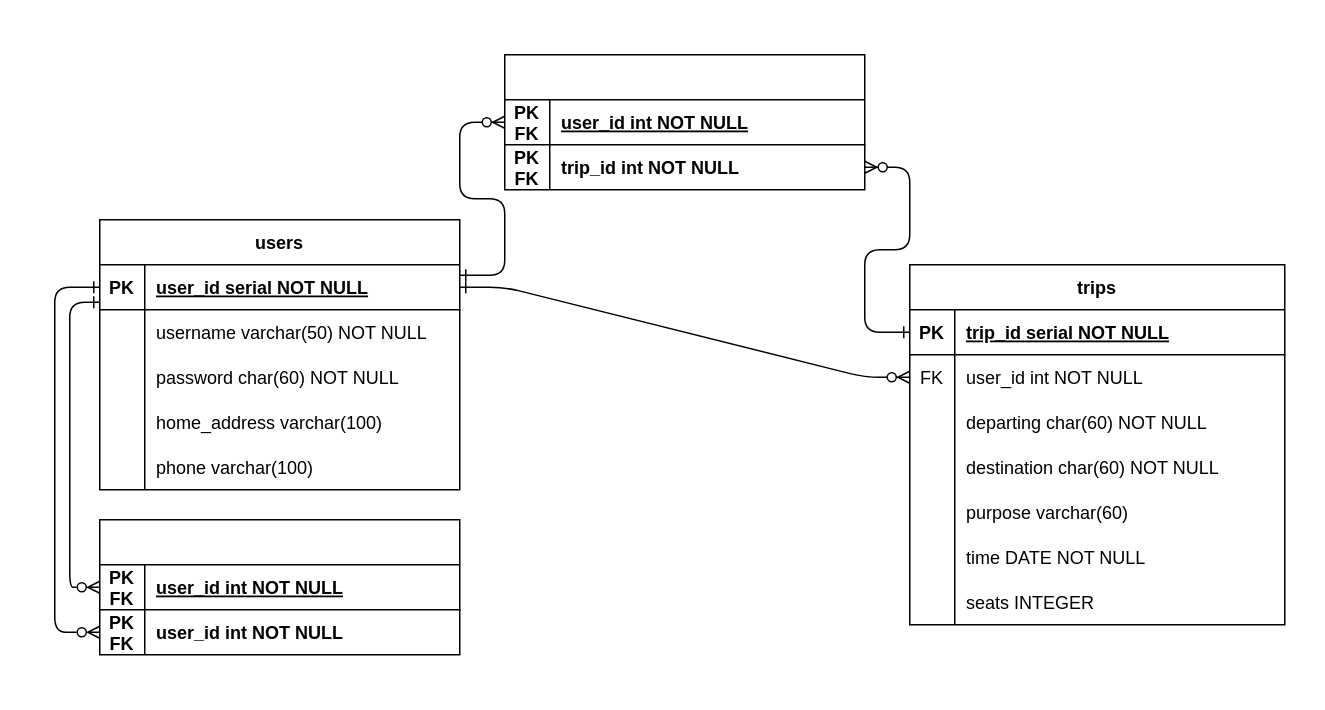
Image size: 1325x710. Some labels were removed from this diagram. Here are the shapes that lost their labels. From the top down, the box of each, then its label:
(503, 53, 865, 190): users_to_trips
(98, 518, 460, 655): friends
